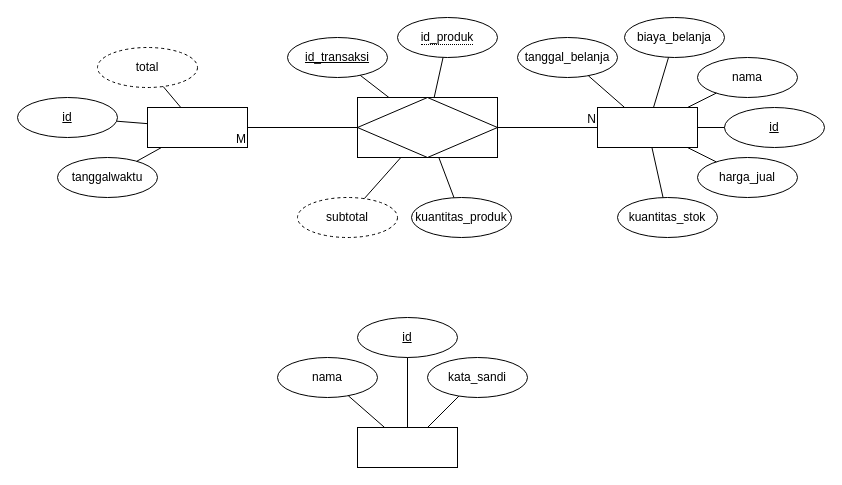
This 842x485 diagram has some shape labels left out. Each missing label, with the centre of its shape:
"Detail Transaksi" goes at pixel 427 127.
"Pengguna" goes at pixel 407 447.
"Produk" goes at pixel 647 127.
"Transaksi" goes at pixel 197 127.
